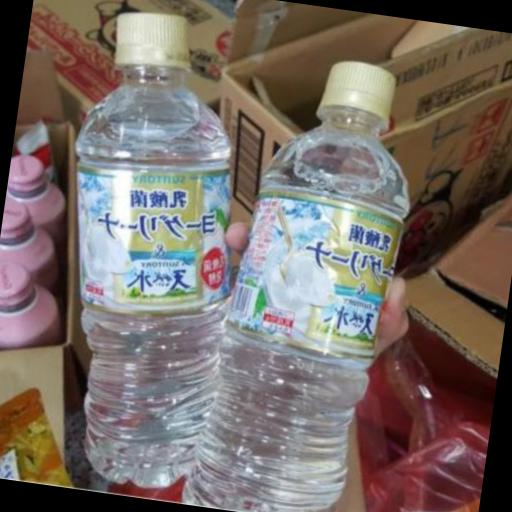Coca: (24, 0, 286, 502), (176, 41, 431, 512)
